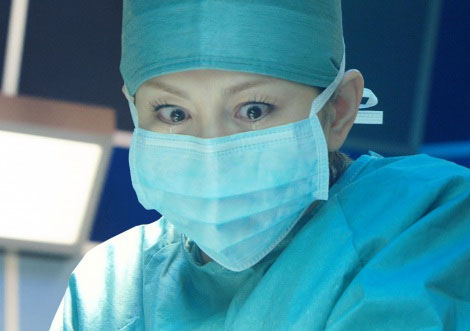mask: (129, 125, 330, 273)
